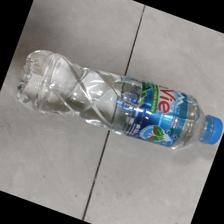Lavie: (13, 49, 224, 150)
